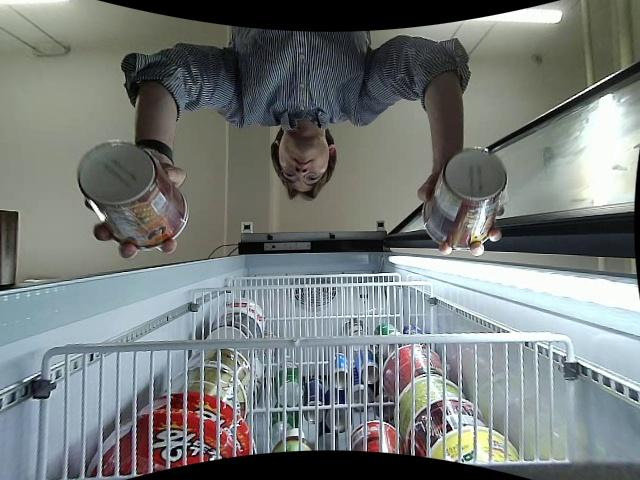00_hand: (84, 166, 185, 259), (415, 170, 505, 258)
06_nuguri_S: (76, 140, 187, 243), (419, 149, 505, 247)
